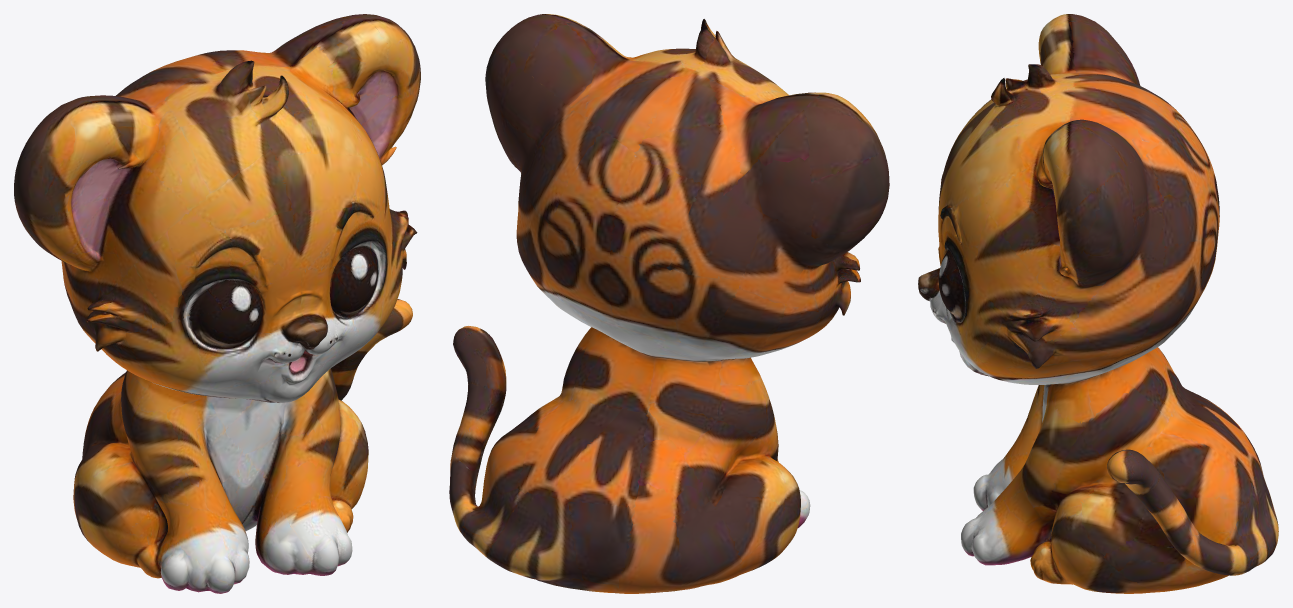
3 views of the same model, side by side, from view 1: azimuth 30°, elevation 25°; view 2: azimuth 150°, elevation 25°; view 3: azimuth 270°, elevation 25° (orthographic). The views are drawn at different scales.
Bounding box in the file's own units: 1.66 × 1.9 × 1.32.
1 material, 1 textured.
